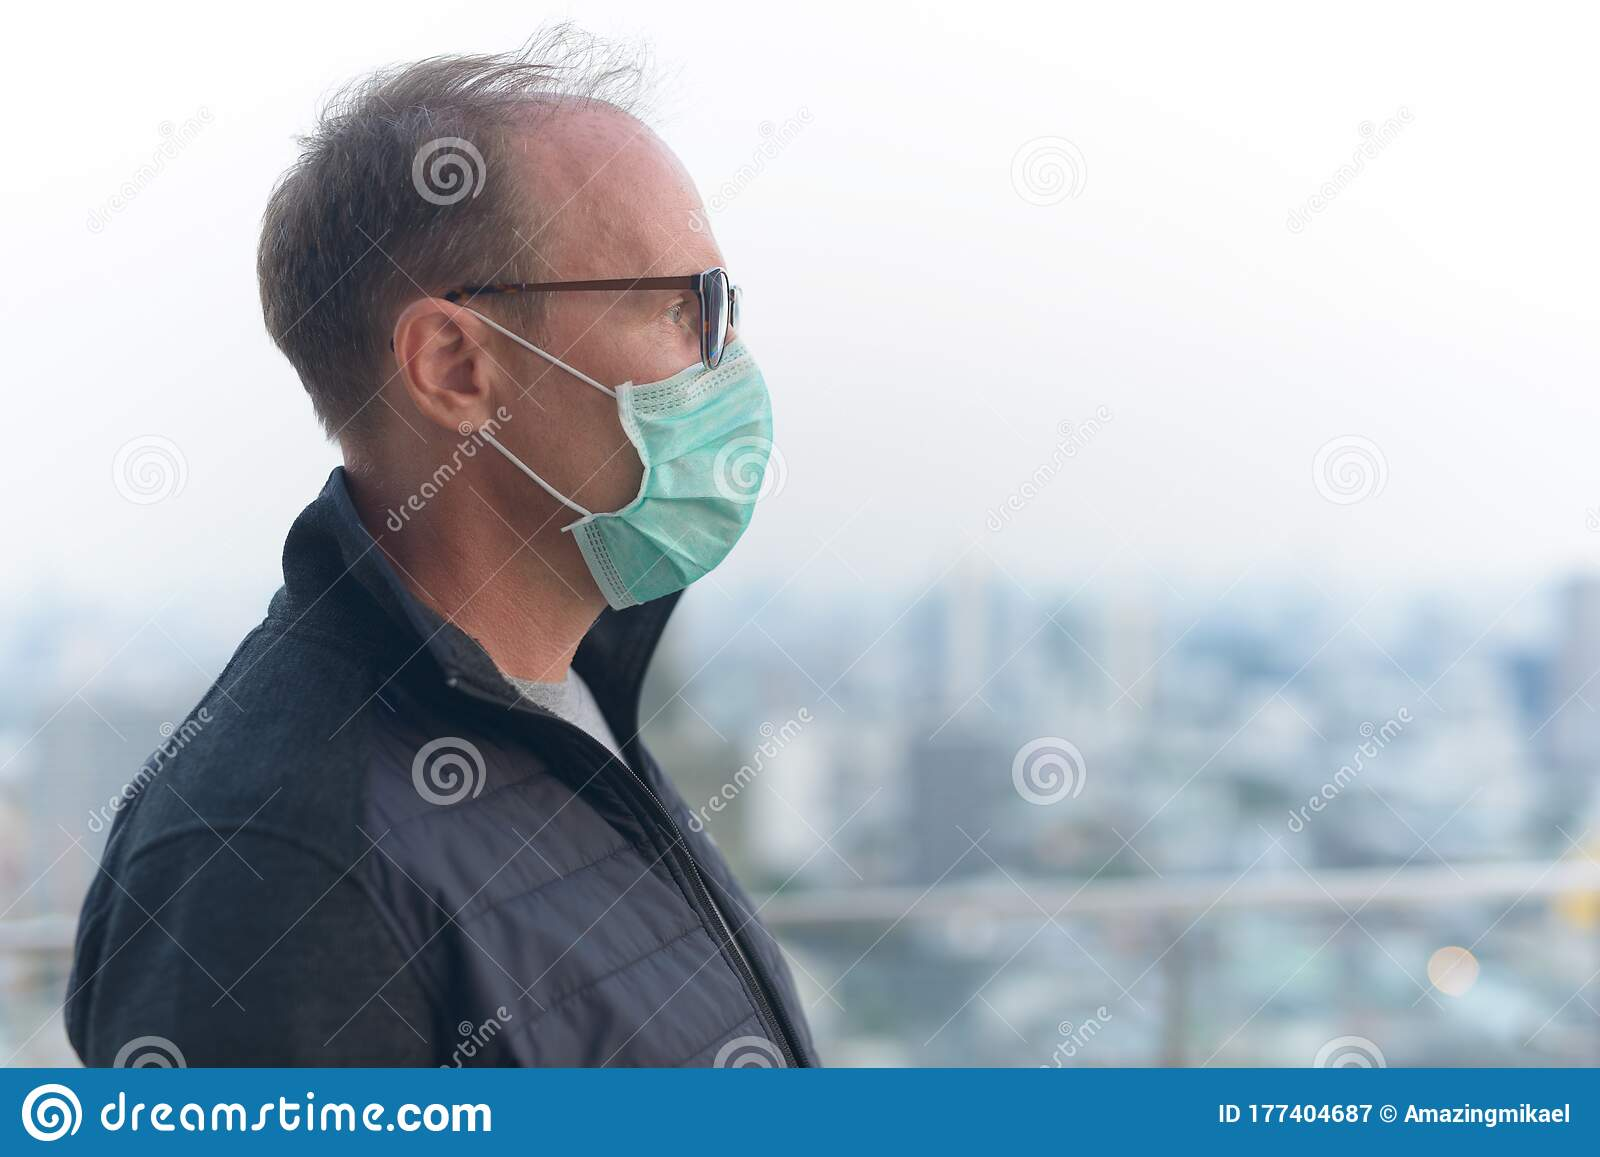with_mask: (290, 80, 827, 710)
